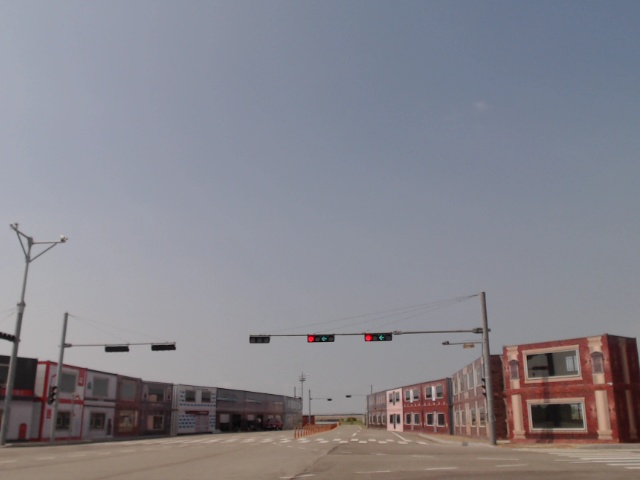left_green_4: (365, 334, 392, 341), (308, 335, 334, 342)
